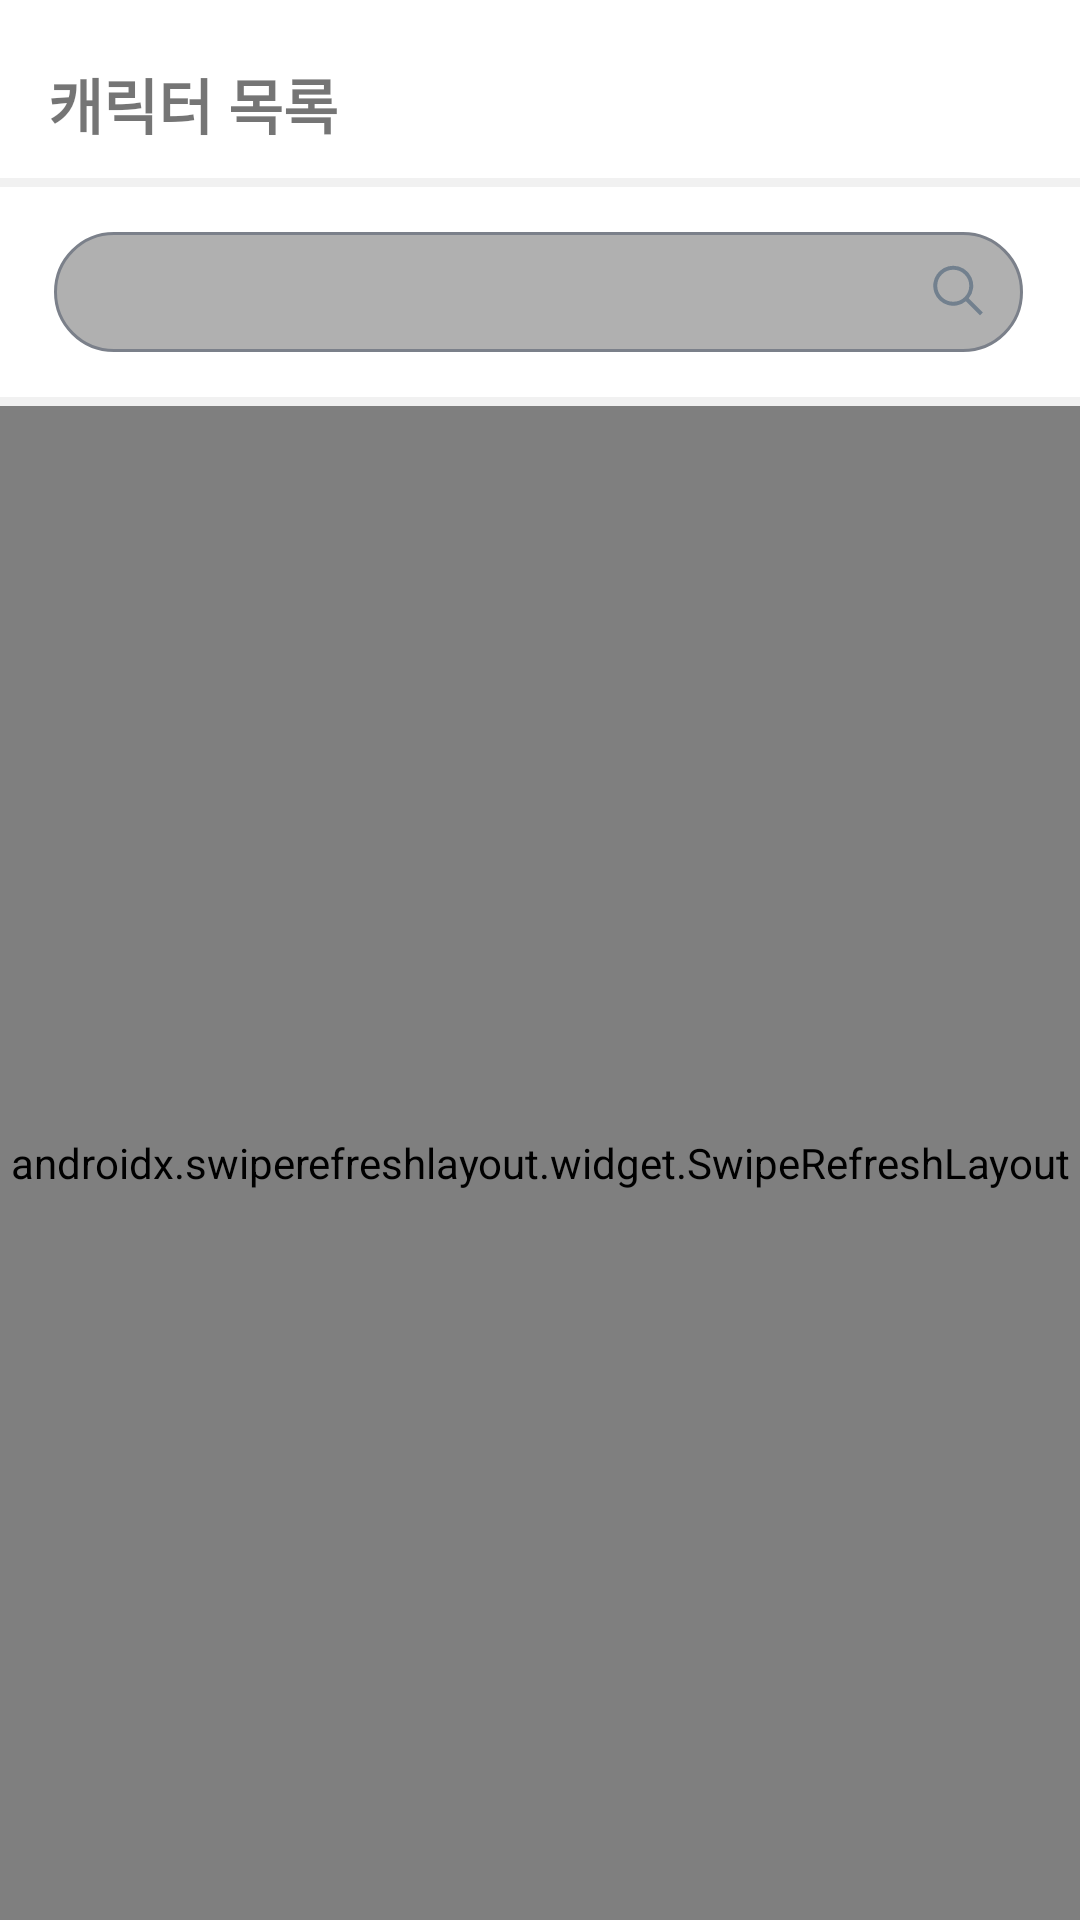

Icons on this 1080x1920 Android screen, each with its box as (x1, y1, x2, y2):
search: (933, 266, 983, 315)
